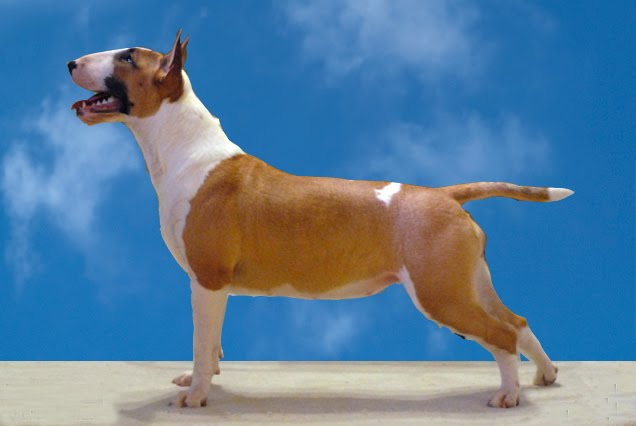bull_terrier: (64, 24, 575, 408)
